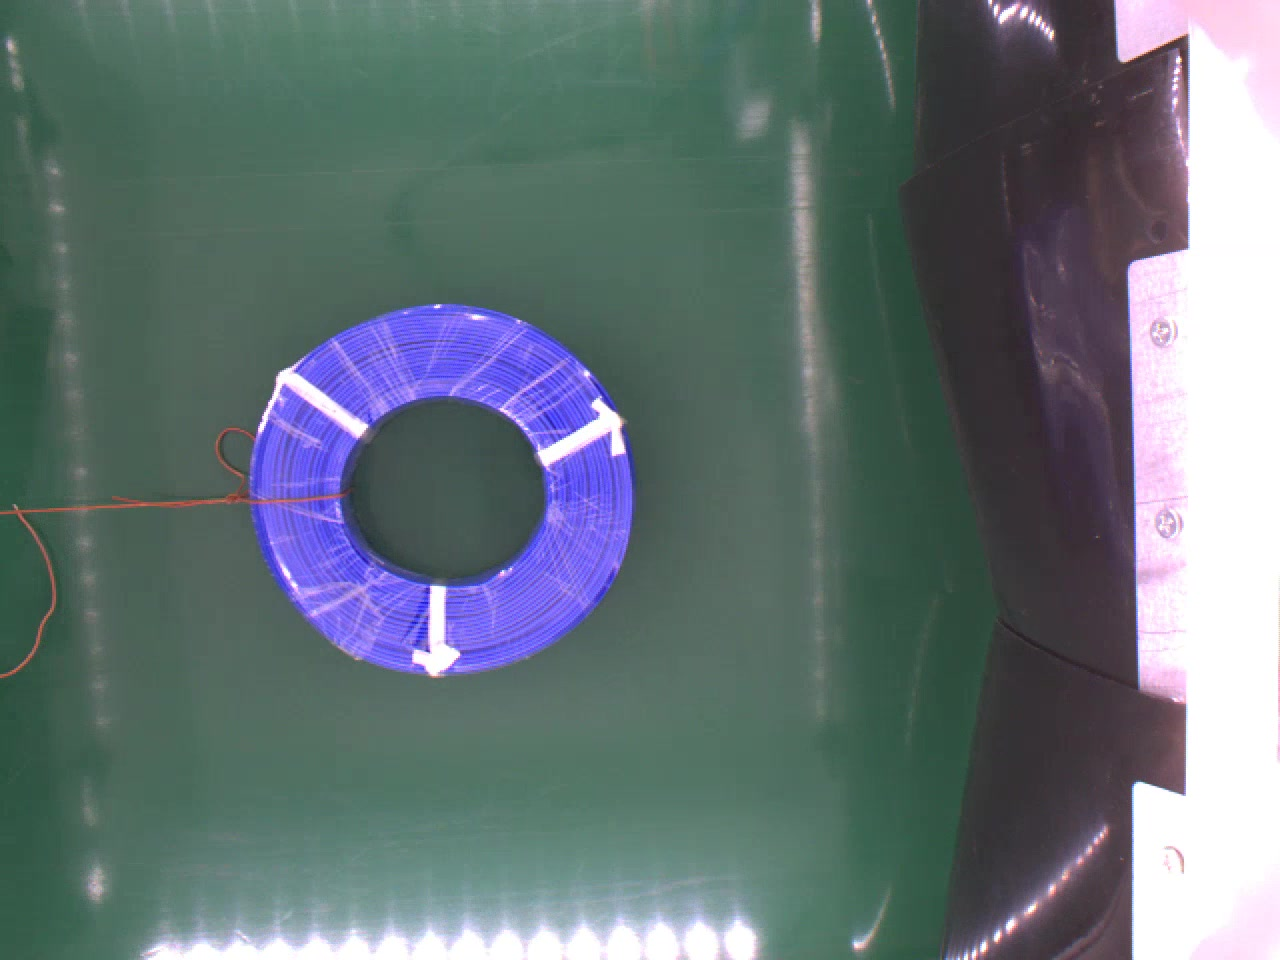blue: (247, 301, 639, 678)
